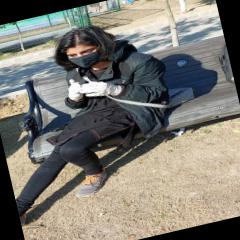gloved: (80, 76, 116, 100), (66, 80, 83, 102)
